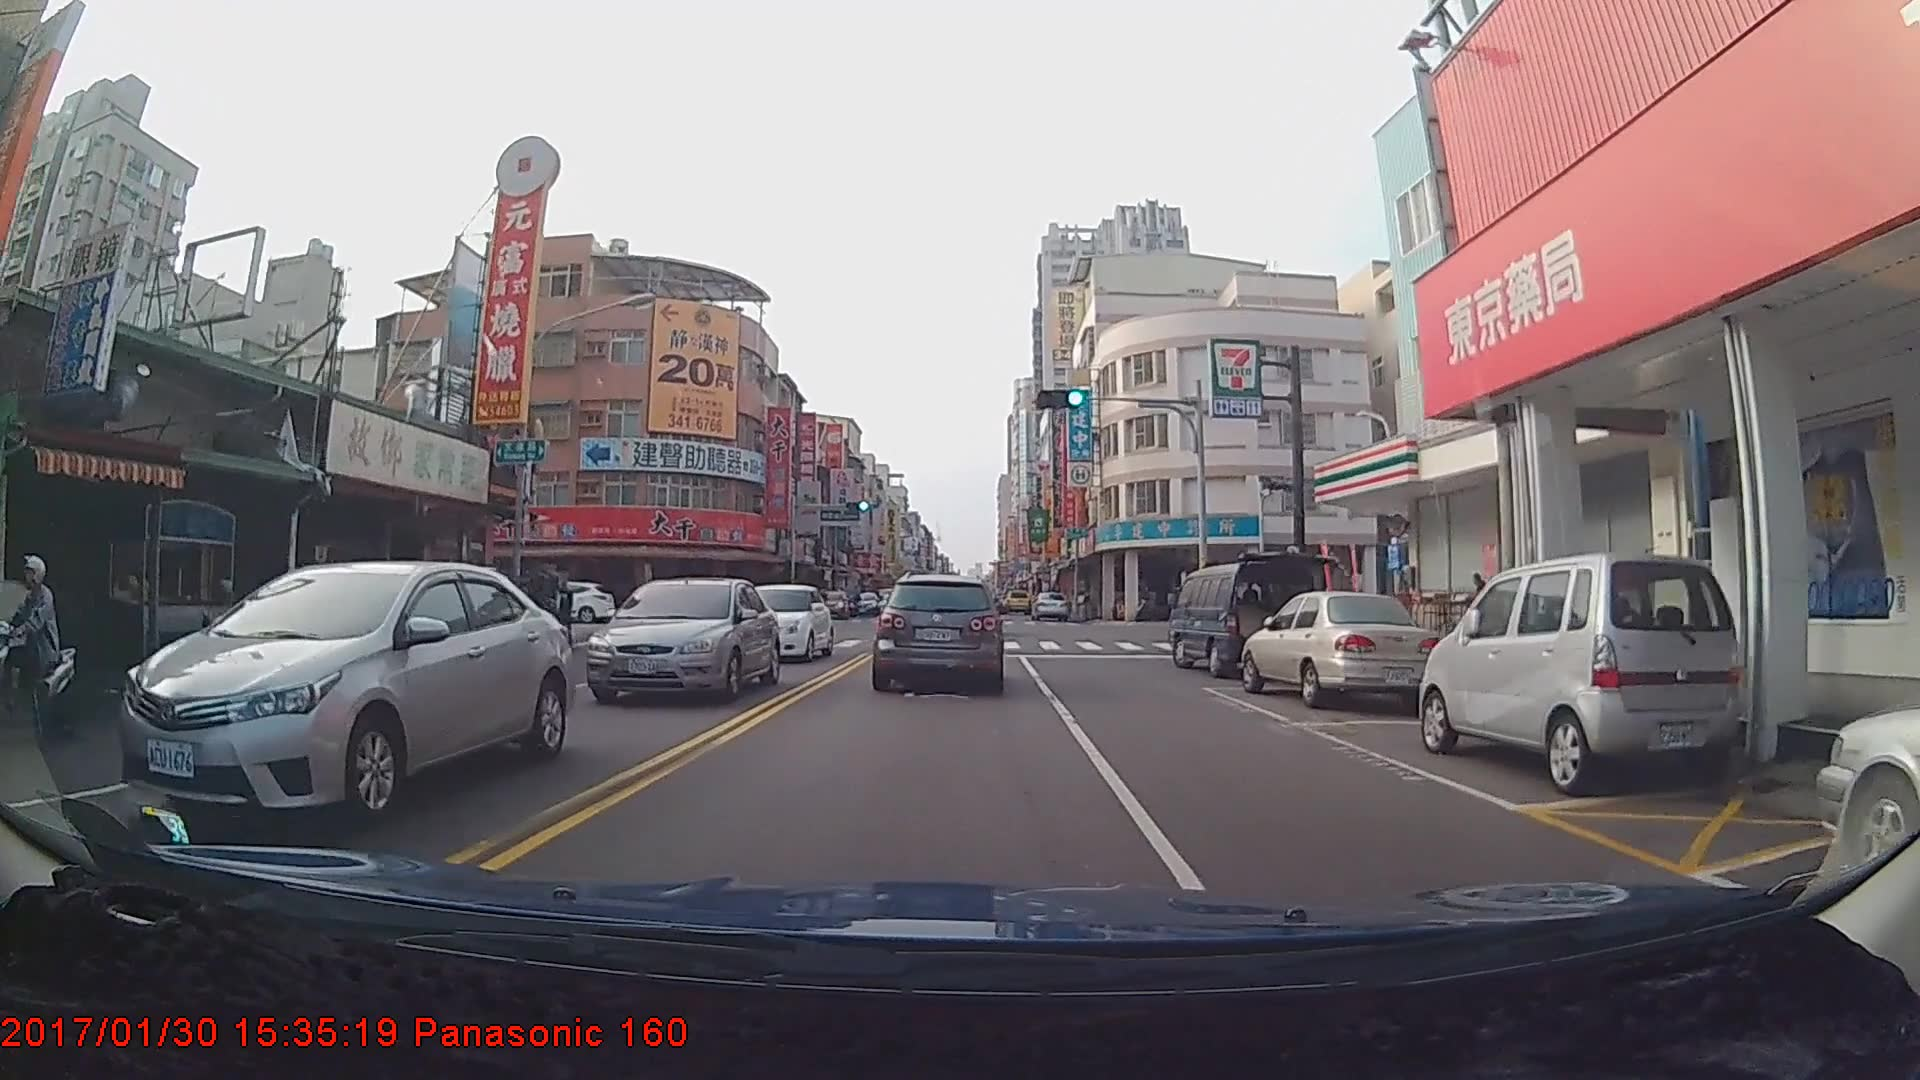rider: (0, 552, 85, 739)
vehicle: (117, 560, 571, 826), (1424, 548, 1737, 793), (1807, 590, 1918, 925), (593, 570, 777, 704), (1240, 590, 1436, 707), (1167, 564, 1315, 676), (875, 571, 1004, 691), (730, 583, 831, 662), (1031, 590, 1070, 623), (811, 587, 847, 620), (848, 593, 881, 616), (1003, 589, 1031, 612)
